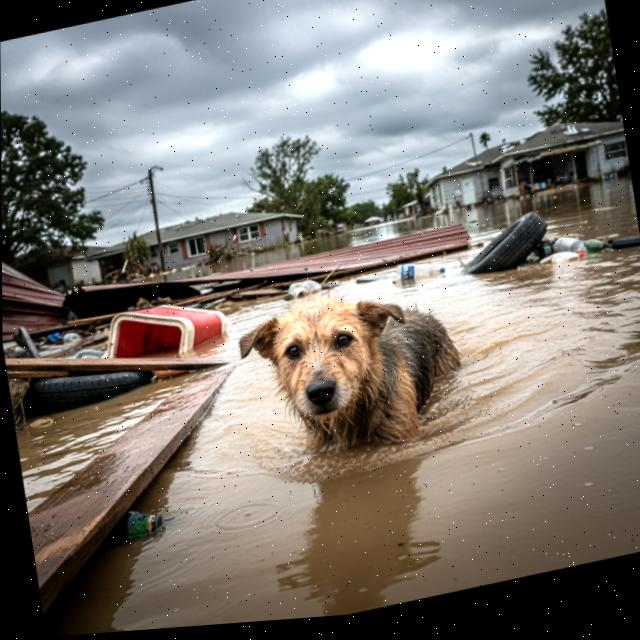dog: (222, 243, 483, 491)
